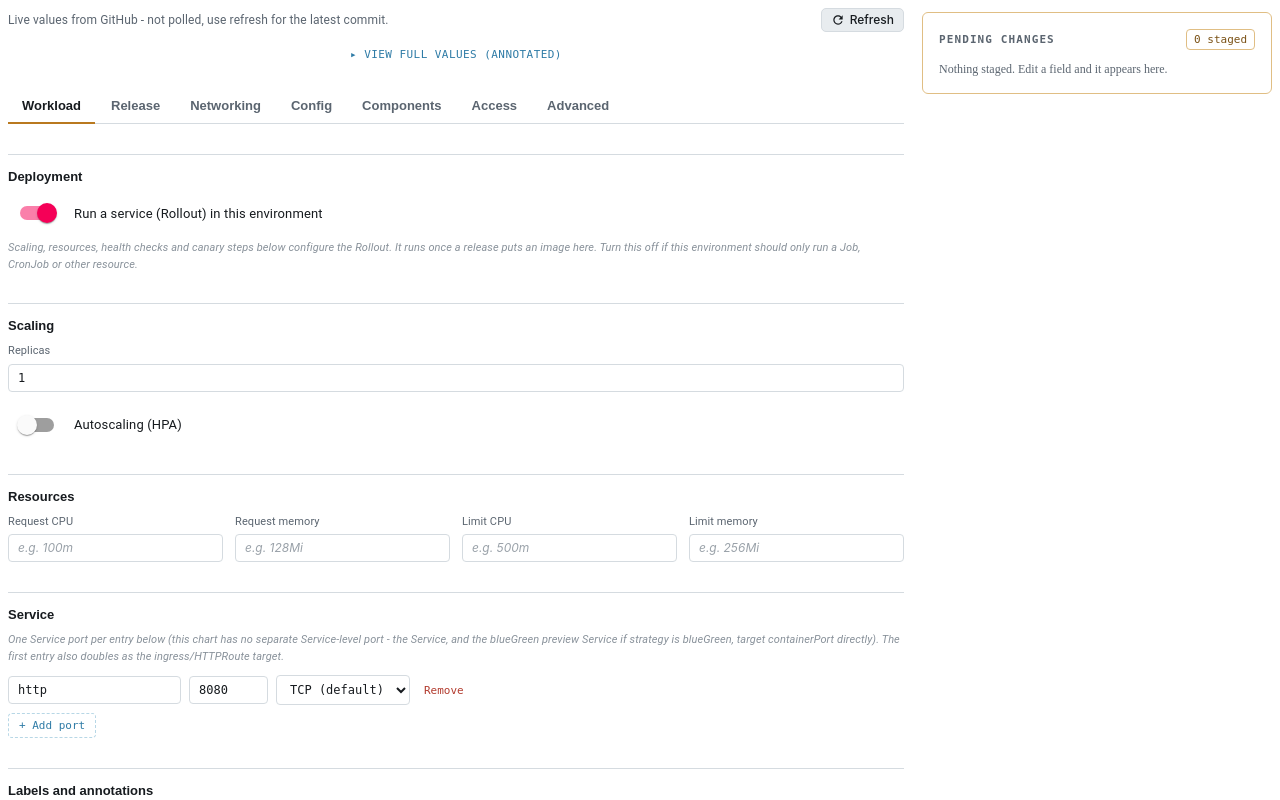
Scenario: values form: analysis templates and their scope › leaves a template with any other key to the raw editor instead of dropping the key
Click the tab "Release".
click(136, 107)  # box [97,89,174,124]
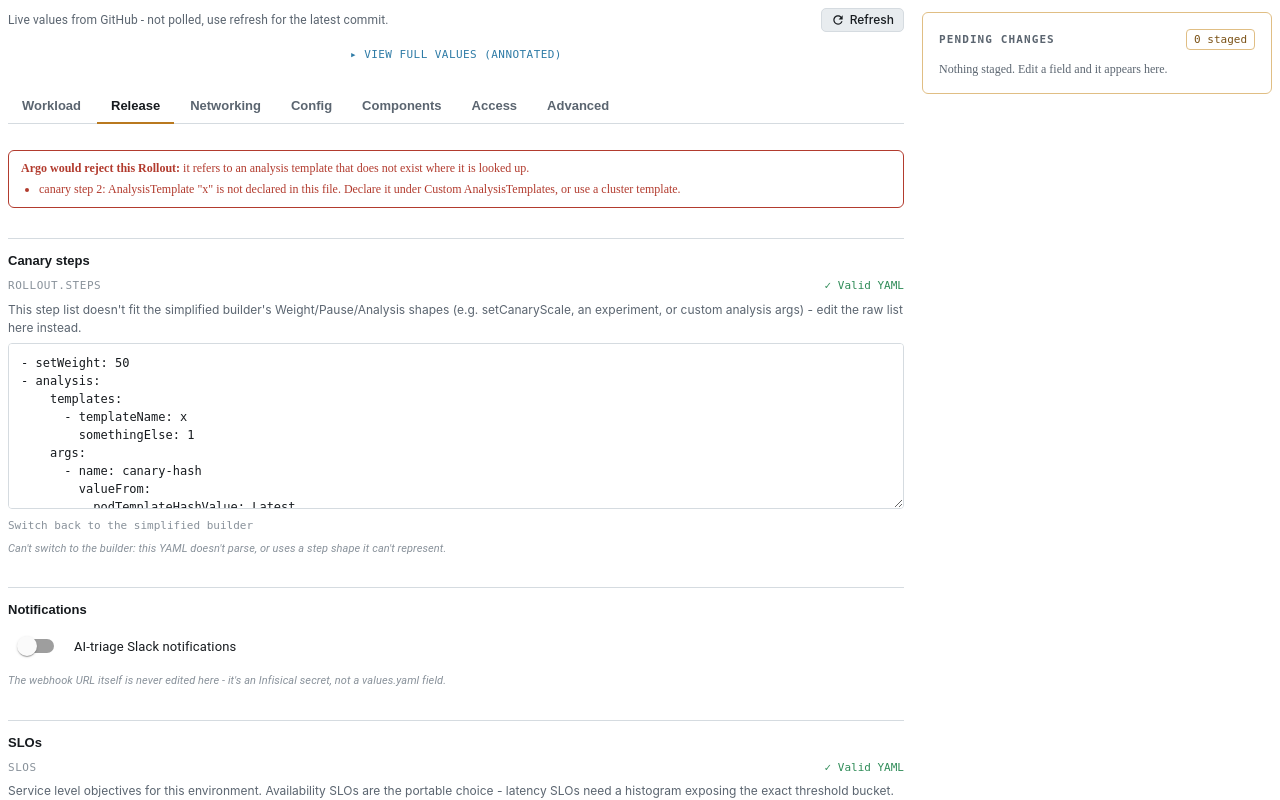
Expected: the text "doesn't fit the simplified builder" is shown, [8,302,903,335]
